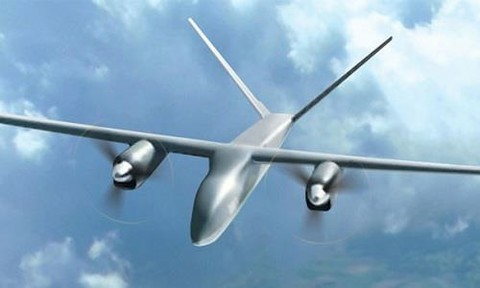maybay_khongnguoilai: (13, 18, 480, 240)
